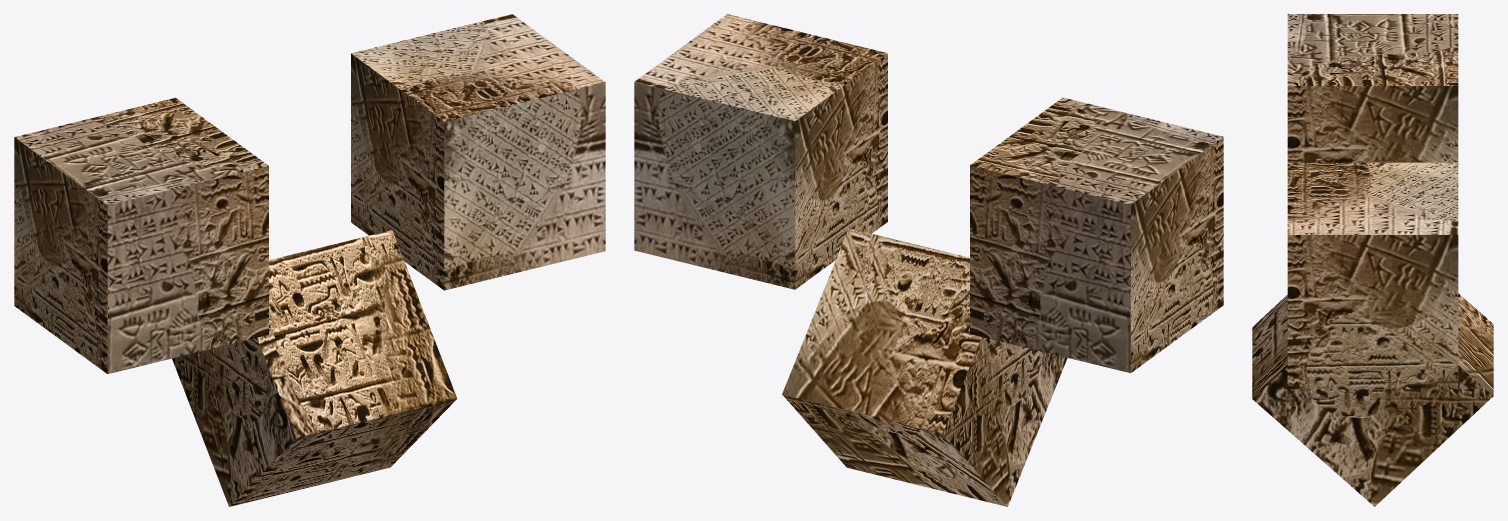
File: gamma.glb
3 renders of one model, left to right at view 1: azimuth 30°, elevation 25°; view 2: azimuth 150°, elevation 25°; view 3: azimuth 270°, elevation 25°, orthographic. The views are drawn at different scales.
Visible parts, largest first — view 1: Cube.002; view 2: Cube.002; view 3: Cube.002.
Part boxes in pixels (x1,y1,x2,y2): Cube.002: [14, 14, 605, 506]; Cube.002: [634, 14, 1223, 506]; Cube.002: [1252, 14, 1493, 506].
Bounding box in the file's own units: 6.17 × 4.49 × 2.83.
1 material, 1 textured.
